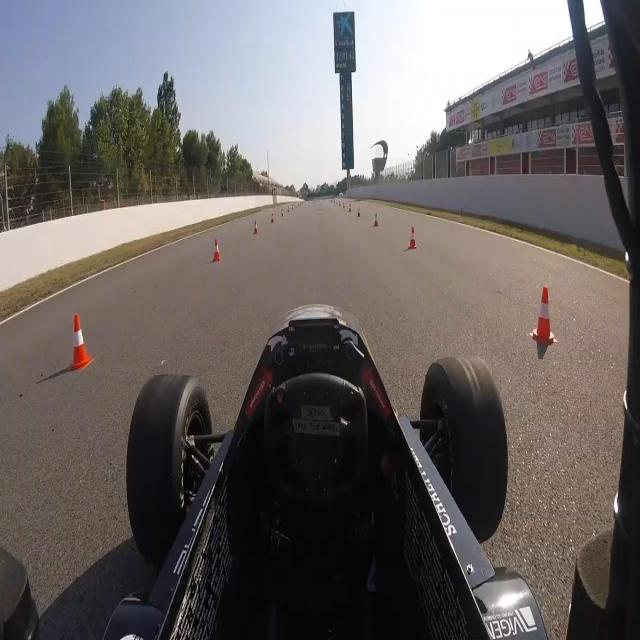orange_cone: (530, 286, 557, 346), (69, 313, 93, 371), (408, 226, 418, 250), (213, 238, 221, 263)
